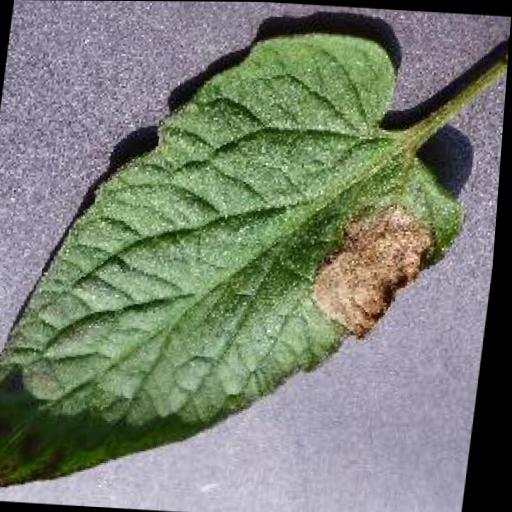Late Blight: (0, 10, 485, 512)
